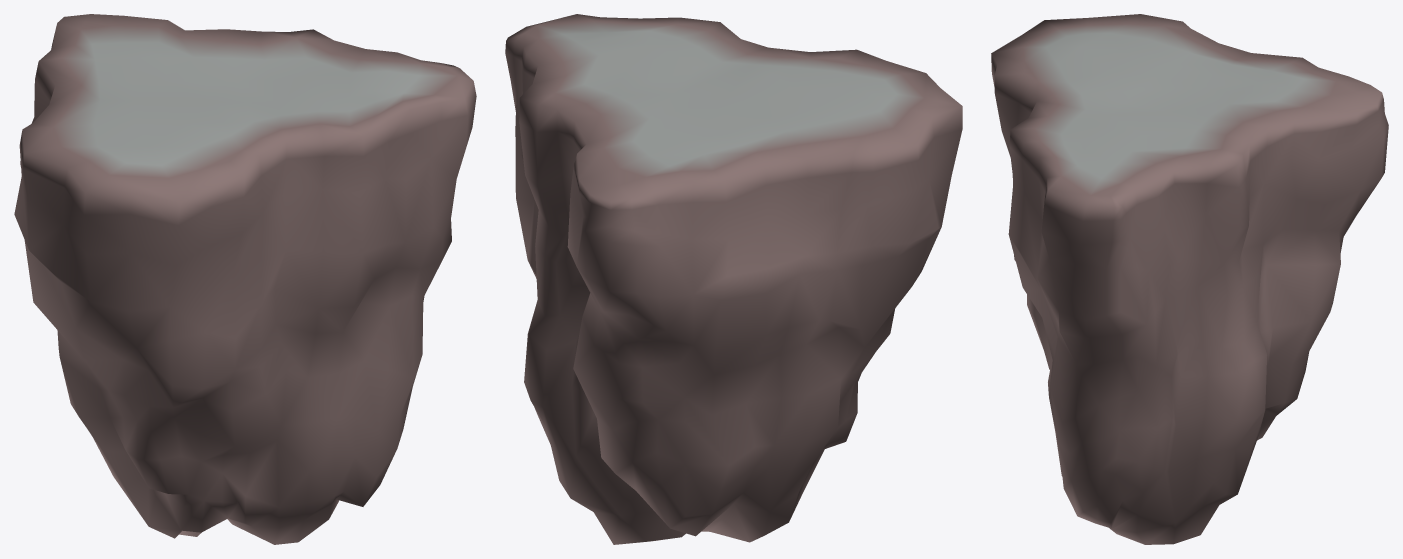
The picture shows the model from 3 angles, left to right: view 1: azimuth 30°, elevation 25°; view 2: azimuth 150°, elevation 25°; view 3: azimuth 270°, elevation 25°; orthographic projection. The views are drawn at different scales.
Parts seen in each view (by area): view 1: G:\FFXIV-MapTools\exports\u5f1\bg\ex4\04_uvs_u5\fld\u5f1\bgp (×2); view 2: G:\FFXIV-MapTools\exports\u5f1\bg\ex4\04_uvs_u5\fld\u5f1\bgp (×2); view 3: G:\FFXIV-MapTools\exports\u5f1\bg\ex4\04_uvs_u5\fld\u5f1\bgp (×2).
Part boxes in pixels (box(x1,y1,x2,y2)): G:\FFXIV-MapTools\exports\u5f1\bg\ex4\04_uvs_u5\fld\u5f1\bgp (×2): box(14, 14, 476, 544); G:\FFXIV-MapTools\exports\u5f1\bg\ex4\04_uvs_u5\fld\u5f1\bgp (×2): box(505, 14, 962, 544); G:\FFXIV-MapTools\exports\u5f1\bg\ex4\04_uvs_u5\fld\u5f1\bgp (×2): box(991, 14, 1388, 544).
Size of the model in its own units: 37.33 by 38.53 by 33.27.
